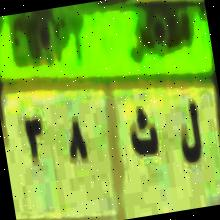3: (20, 110, 49, 176)
8: (64, 116, 88, 168)
laam: (170, 88, 206, 172)
thaa: (123, 100, 162, 171)
